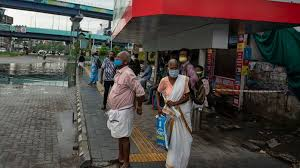mask: (113, 50, 130, 66), (168, 59, 181, 78), (178, 48, 188, 62)
